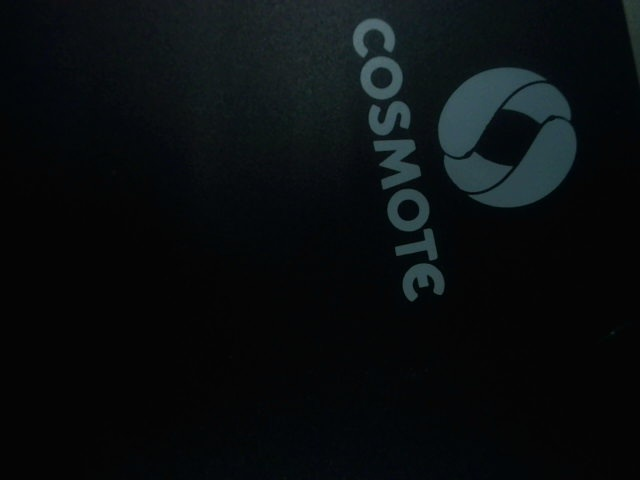AU_COSMOTE: (337, 13, 589, 304)
